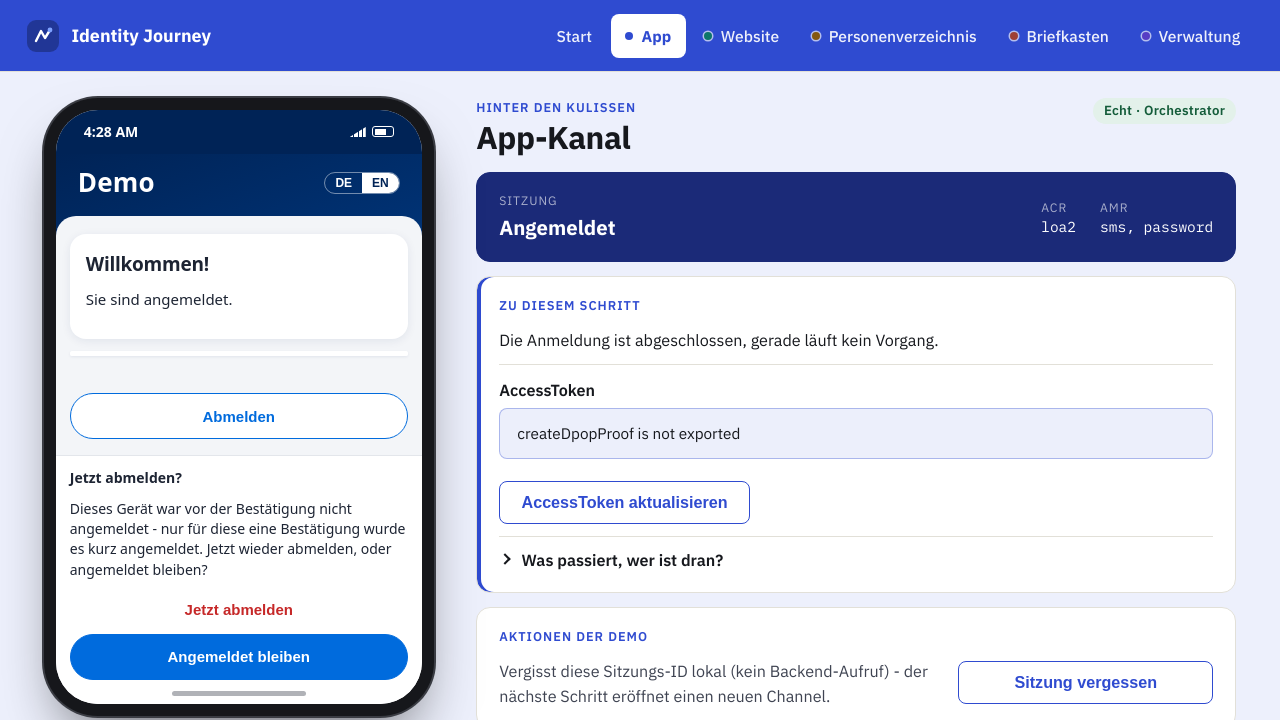
it: entry by URL intent (docs/10-frontend.md #6, FE-18) › asks whether to stay signed in once a cold confirm_peer_login is through, and stays on "Angemeldet bleiben"
expect the text "Jetzt abmelden?" is shown: met, box [70,468,182,487]
Click the button "Angemeldet bleiben" at (239, 657), box [70,634,408,680]
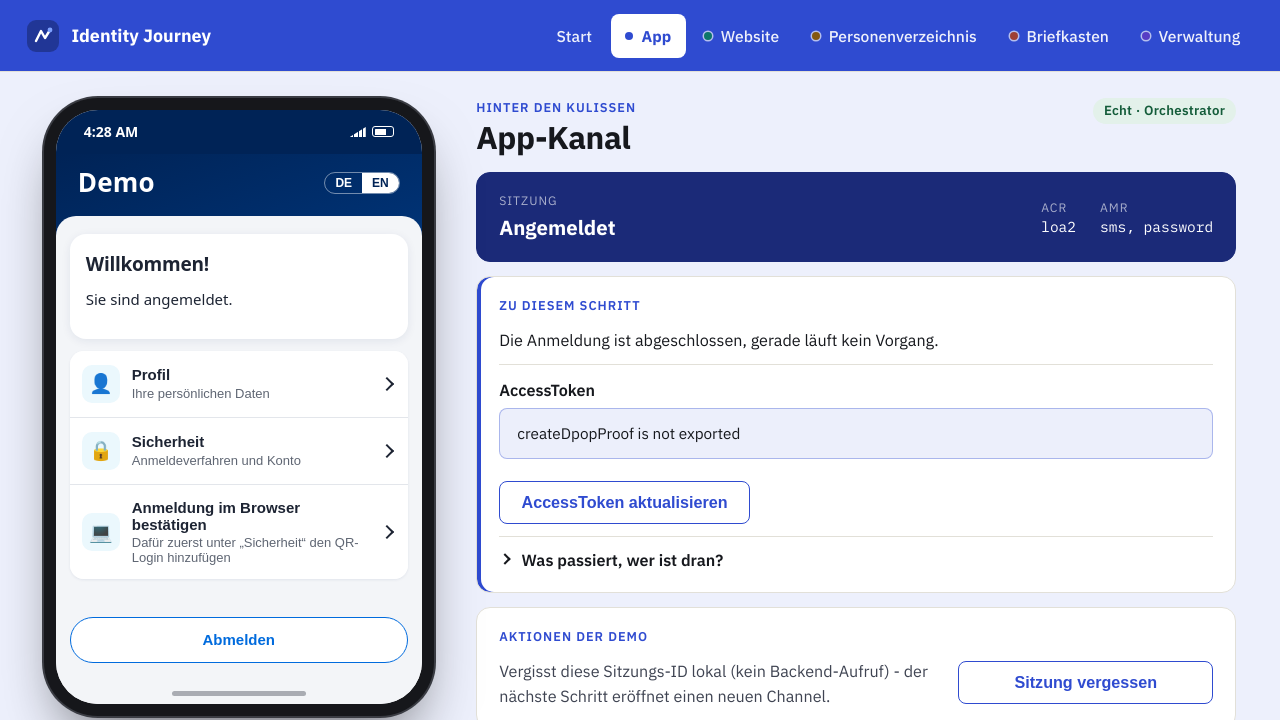
expect the text "Jetzt abmelden?" is gone: met
